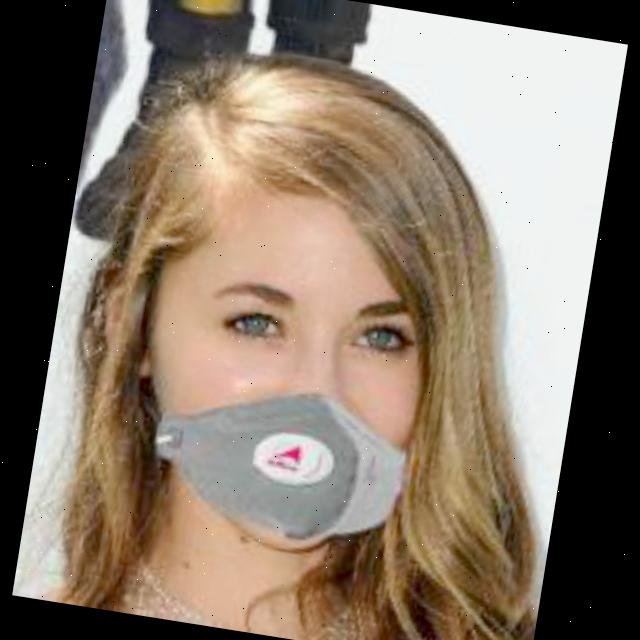suspicion: (113, 92, 520, 557)
